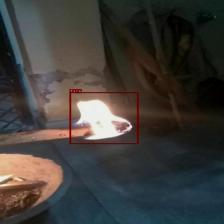fire: (70, 92, 138, 144)
